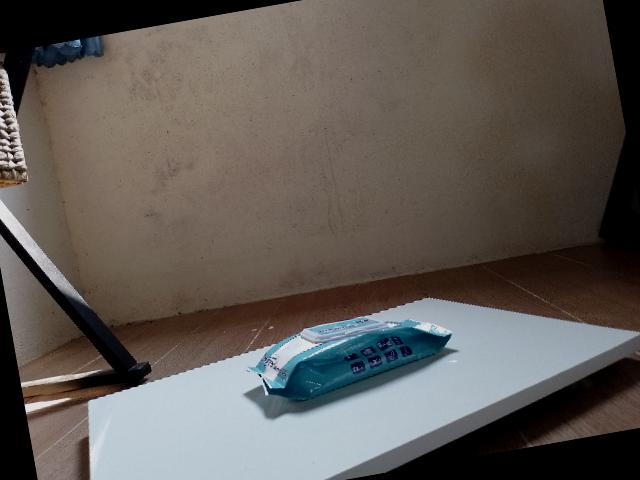Let-green_alcohol_wipes: (247, 316, 452, 401)
